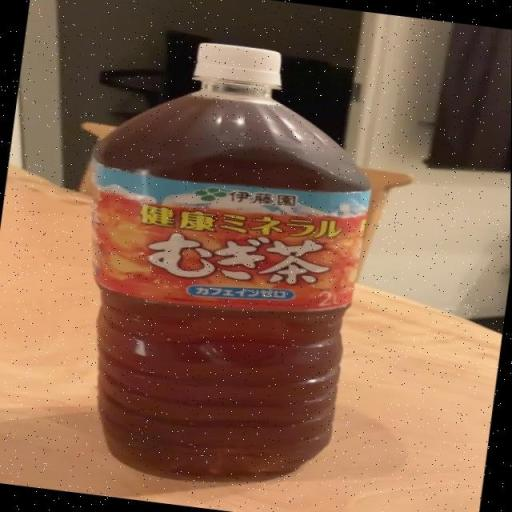plastic: (81, 43, 373, 483)
